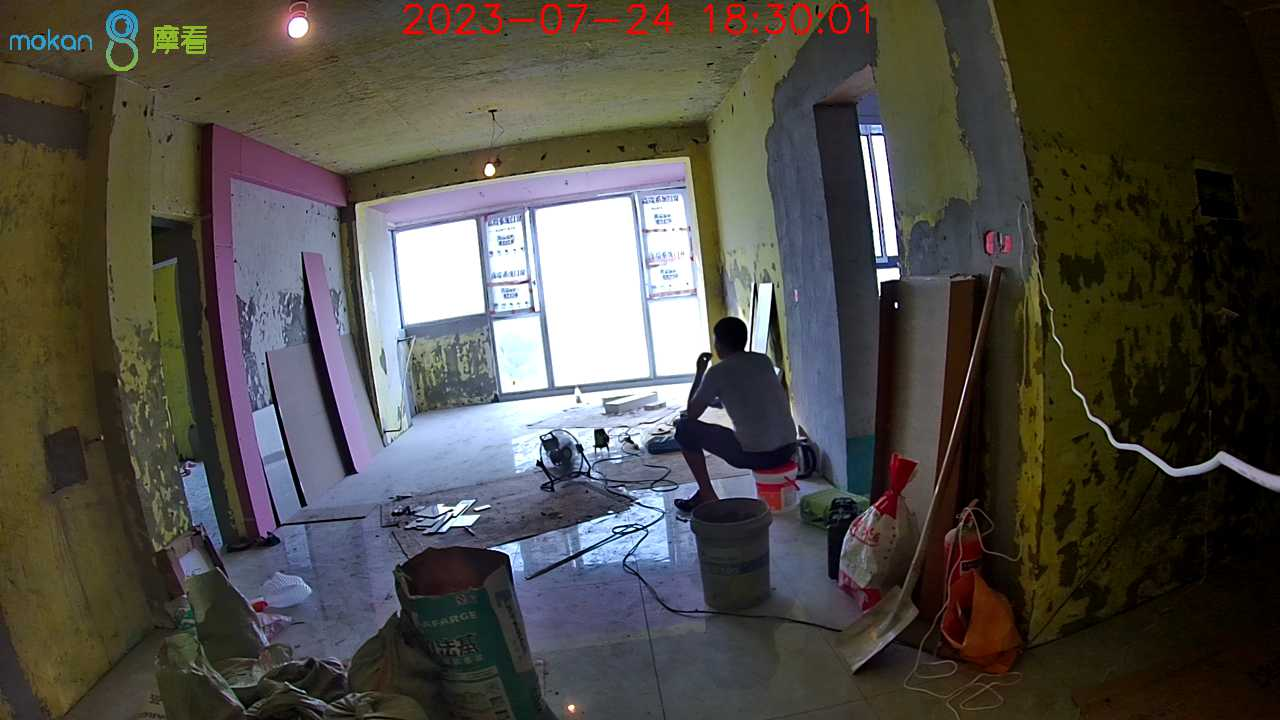people: (666, 311, 810, 516)
window: (388, 194, 707, 392), (861, 124, 904, 282)
